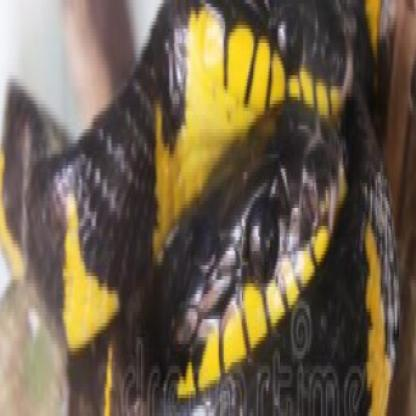snakes: (21, 154, 391, 373), (0, 0, 360, 140)
